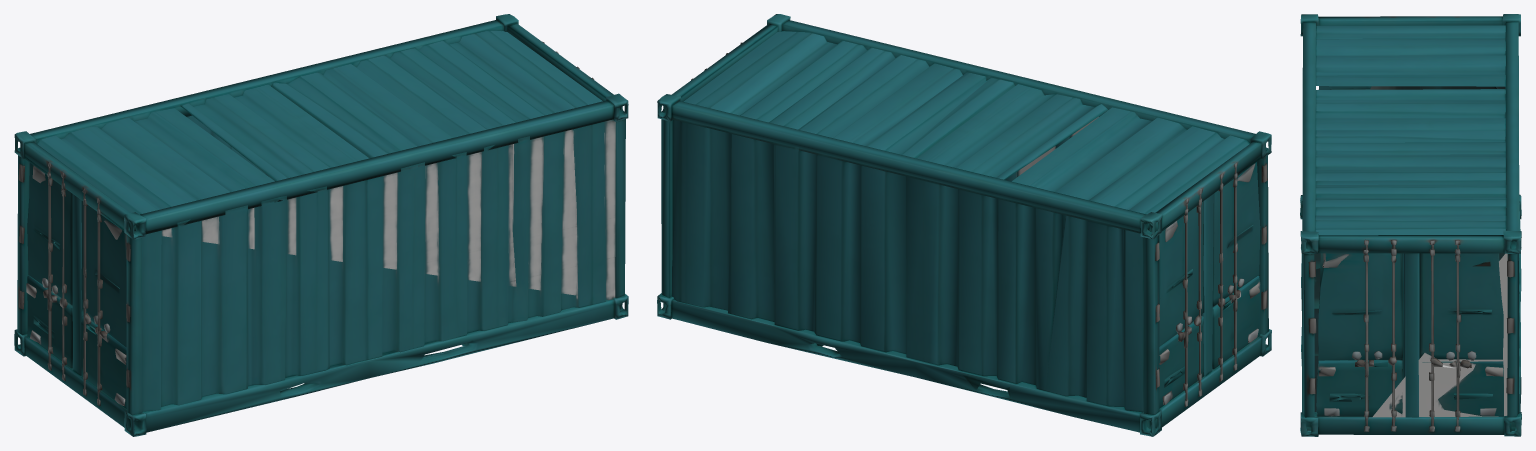
Rendered from timber-shipping-container.glb.
3 views of the same model, side by side, from view 1: azimuth 30°, elevation 25°; view 2: azimuth 150°, elevation 25°; view 3: azimuth 270°, elevation 25° (orthographic). The views are drawn at different scales.
Visible parts, largest first — view 1: geometry_0; view 2: geometry_0; view 3: geometry_0.
Boxes of the visible parts, x1,y1,x2,y2 form: geometry_0: [14, 14, 628, 436]; geometry_0: [657, 14, 1271, 436]; geometry_0: [1300, 14, 1521, 436].
Bounding box in the file's own units: 1 × 0.419 × 0.4203.
1 material, 1 textured.
